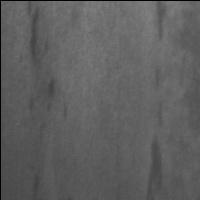inclusion: (26, 2, 69, 120), (145, 132, 169, 200), (152, 66, 170, 129), (152, 1, 171, 50), (27, 169, 42, 200)
